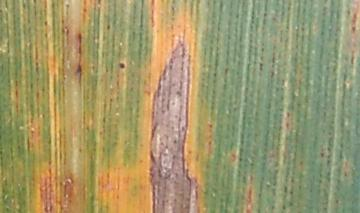tarspot: (116, 60, 128, 71), (319, 150, 325, 160)
